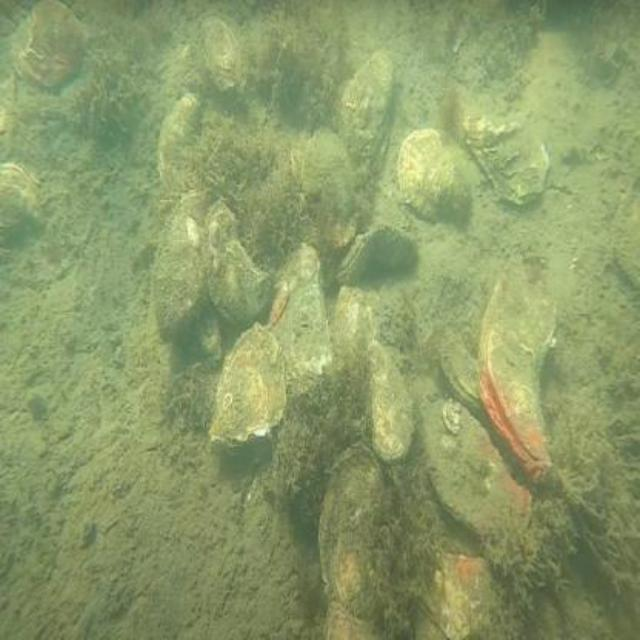Oyster-Closed: (417, 376, 532, 532), (321, 444, 388, 620), (267, 244, 331, 389), (204, 206, 278, 329), (210, 327, 287, 440), (156, 189, 210, 340), (300, 124, 359, 249), (463, 114, 550, 198), (398, 128, 473, 221), (338, 50, 394, 173), (418, 544, 490, 638), (12, 0, 87, 89), (365, 343, 412, 466), (337, 226, 420, 288), (157, 95, 205, 199), (433, 327, 480, 415), (200, 12, 239, 97), (2, 157, 42, 238), (618, 167, 638, 282), (320, 601, 380, 638), (292, 136, 309, 186)
Oyster-Open: (477, 260, 557, 473)
